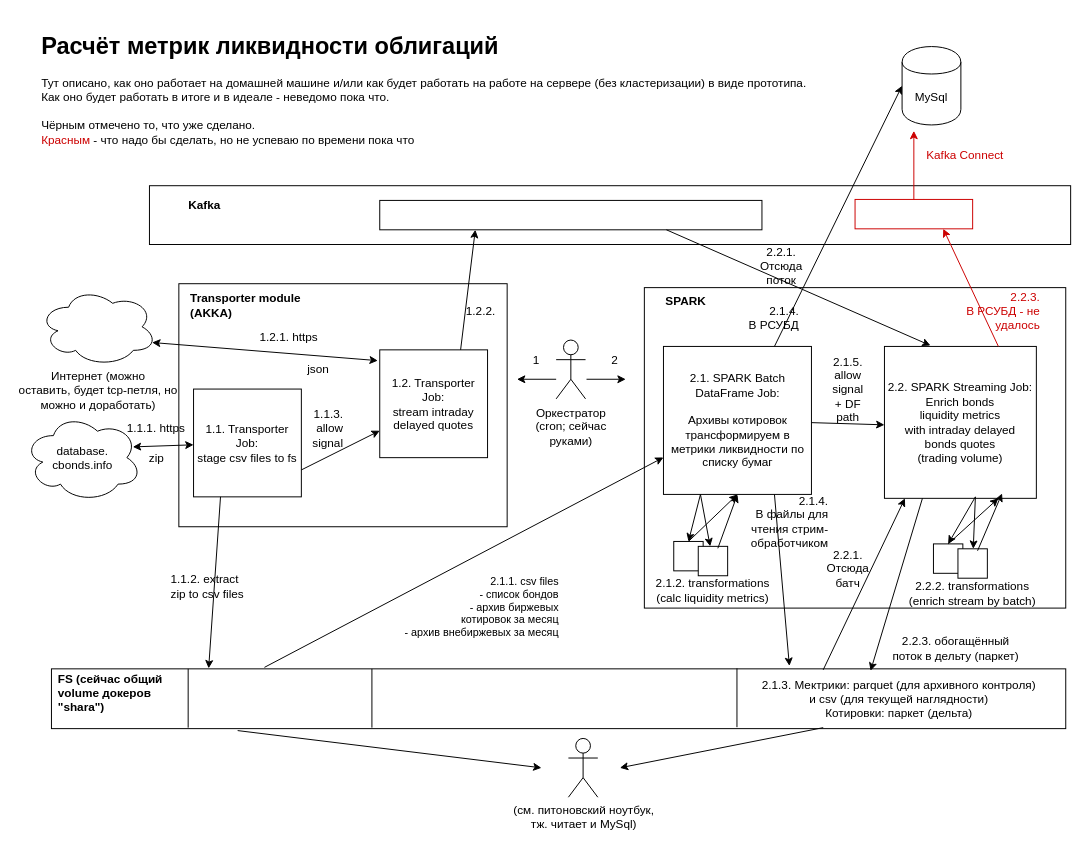
Some shapes in this 1088 by 849 pixel diagram are drawn without their labels. Here are the shapes that lost their labels. From the top down, the box of each, then its label:
(379, 199, 762, 230): eurobonds-quotes-topic
(854, 198, 973, 229): topic Boo
(38, 287, 157, 366): ws. cbonds.info
(183, 679, 369, 718): для архивного контроля остаются последние за день
